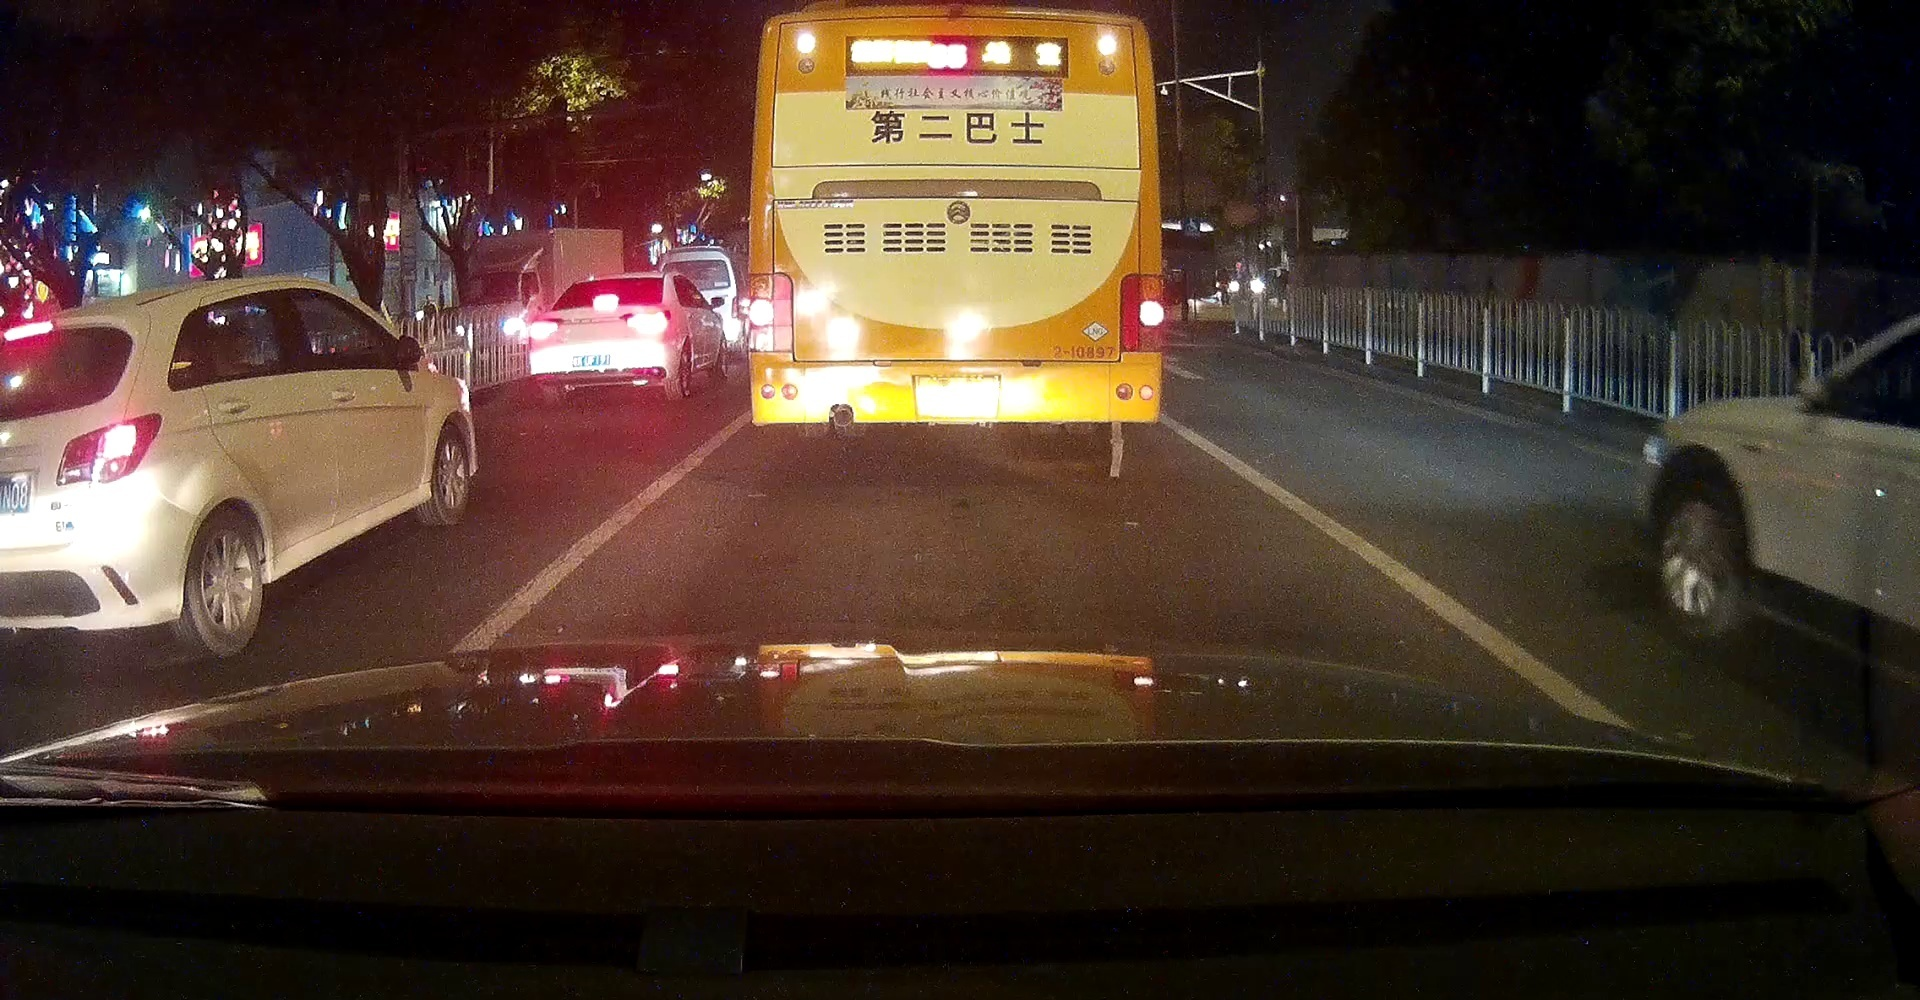L_light: (747, 274, 794, 352), (528, 317, 563, 339)
R_light: (1119, 273, 1163, 353), (618, 308, 670, 336)
T_light: (916, 16, 971, 34), (592, 294, 618, 307)
night-brake: (530, 272, 673, 404)
night-no: (747, 4, 1163, 440)
